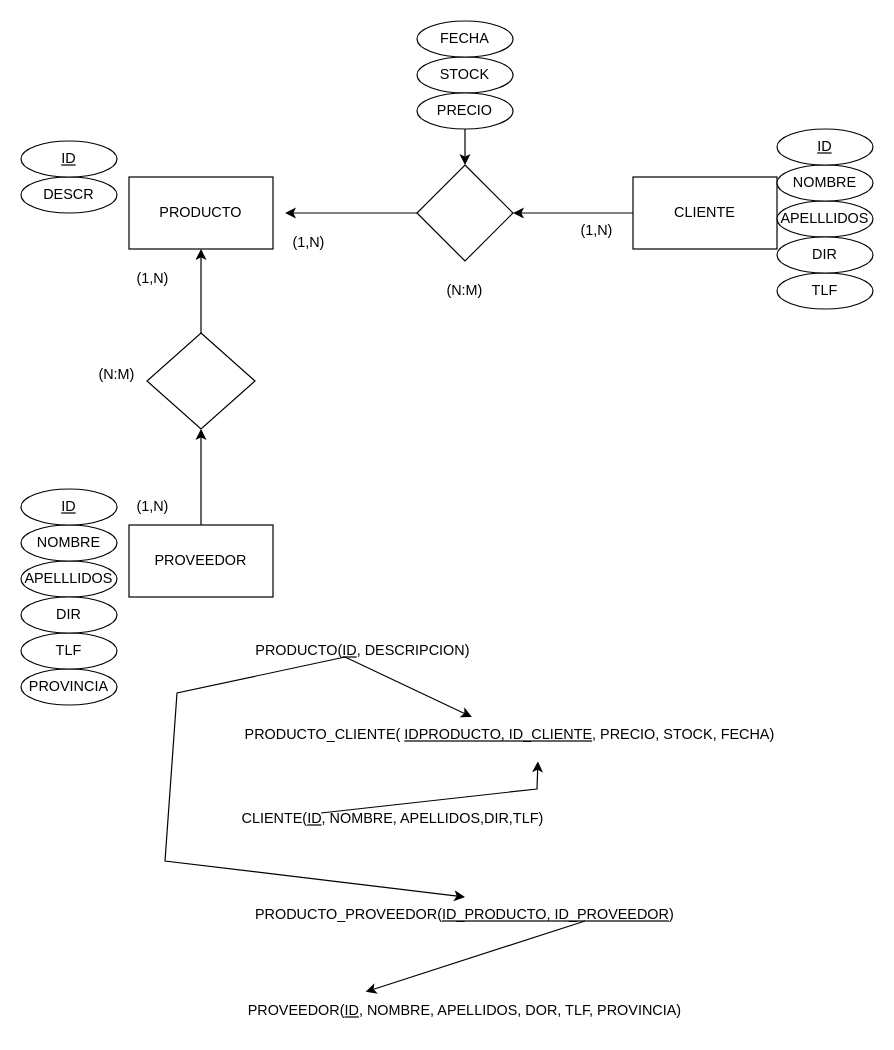
The diagram is 894 pixels wide and 1050 high, and some of its shapes have lost their labels. The centre of each missing label's shape, as x and y in pixels:
COMPRA: (464,212)
SUMINISTRA: (200,380)
